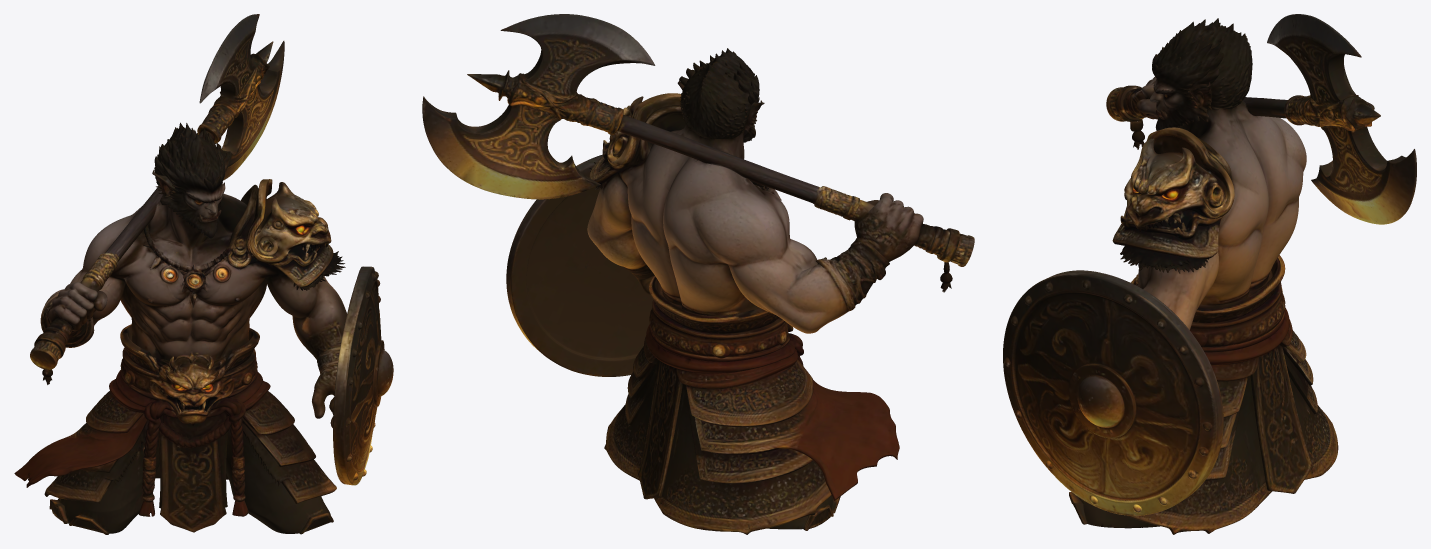
File: xing-tian.glb
3 renders of one model, left to right at view 1: azimuth 30°, elevation 25°; view 2: azimuth 150°, elevation 25°; view 3: azimuth 270°, elevation 25°, orthographic. The views are drawn at different scales.
Visible parts, largest first — view 1: node_0; view 2: node_0; view 3: node_0.
Part boxes in pixels (x1,y1,x2,y2): node_0: (14, 14, 393, 534); node_0: (422, 14, 974, 534); node_0: (1003, 14, 1416, 534).
Size of the model in its own units: 0.8361 by 0.894 by 0.6581.
Materials: 1 (1 with a texture image).
